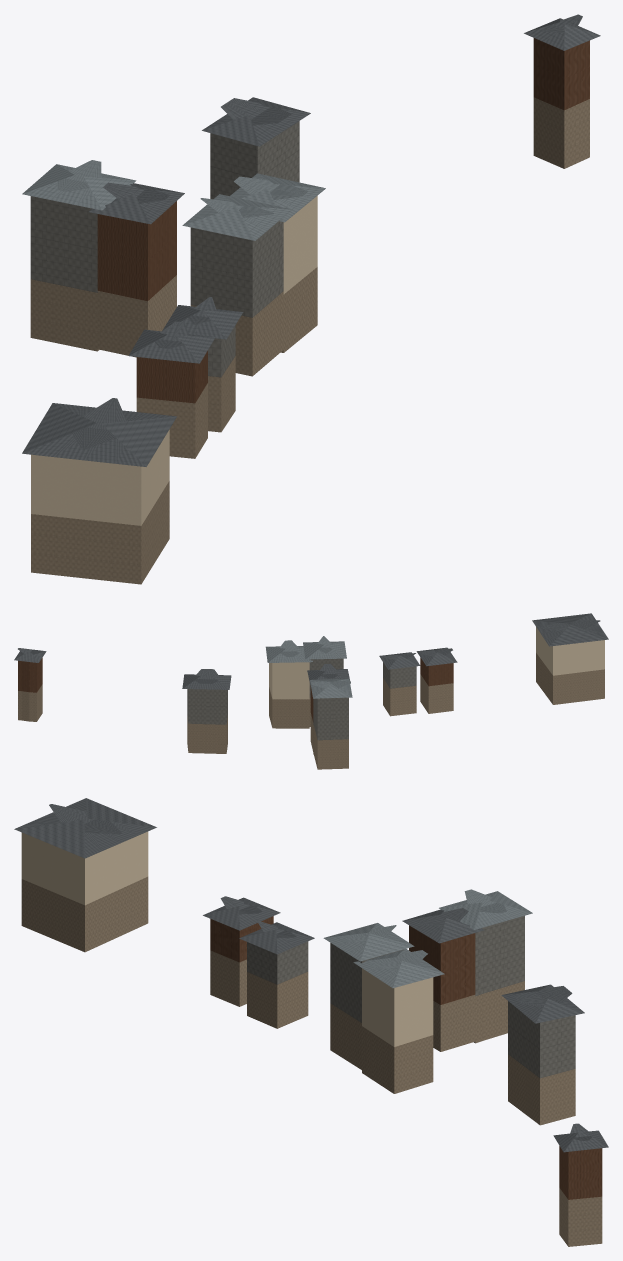
The model's file is bld_c10_18_431.gltf.
The picture shows the model from 3 angles, top to bottom: view 1: azimuth 30°, elevation 25°; view 2: azimuth 150°, elevation 25°; view 3: azimuth 270°, elevation 25°; orthographic projection. The views are drawn at different scales.
Parts seen in each view (by area): view 1: bld_c10_18_431; view 2: bld_c10_18_431; view 3: bld_c10_18_431.
Part boxes in pixels (box(x1,y1,x2,y2)): bld_c10_18_431: box(22, 14, 600, 584); bld_c10_18_431: box(14, 613, 608, 769); bld_c10_18_431: box(14, 798, 608, 1246).
Bounding box in the file's own units: 79.82 × 13.8 × 58.47.
6 materials, 6 textured.
